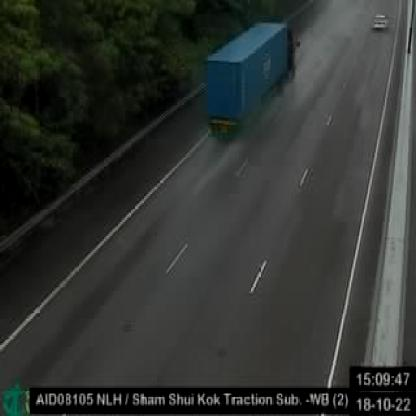Car: (370, 12, 389, 33)
Truck: (204, 21, 300, 146)
